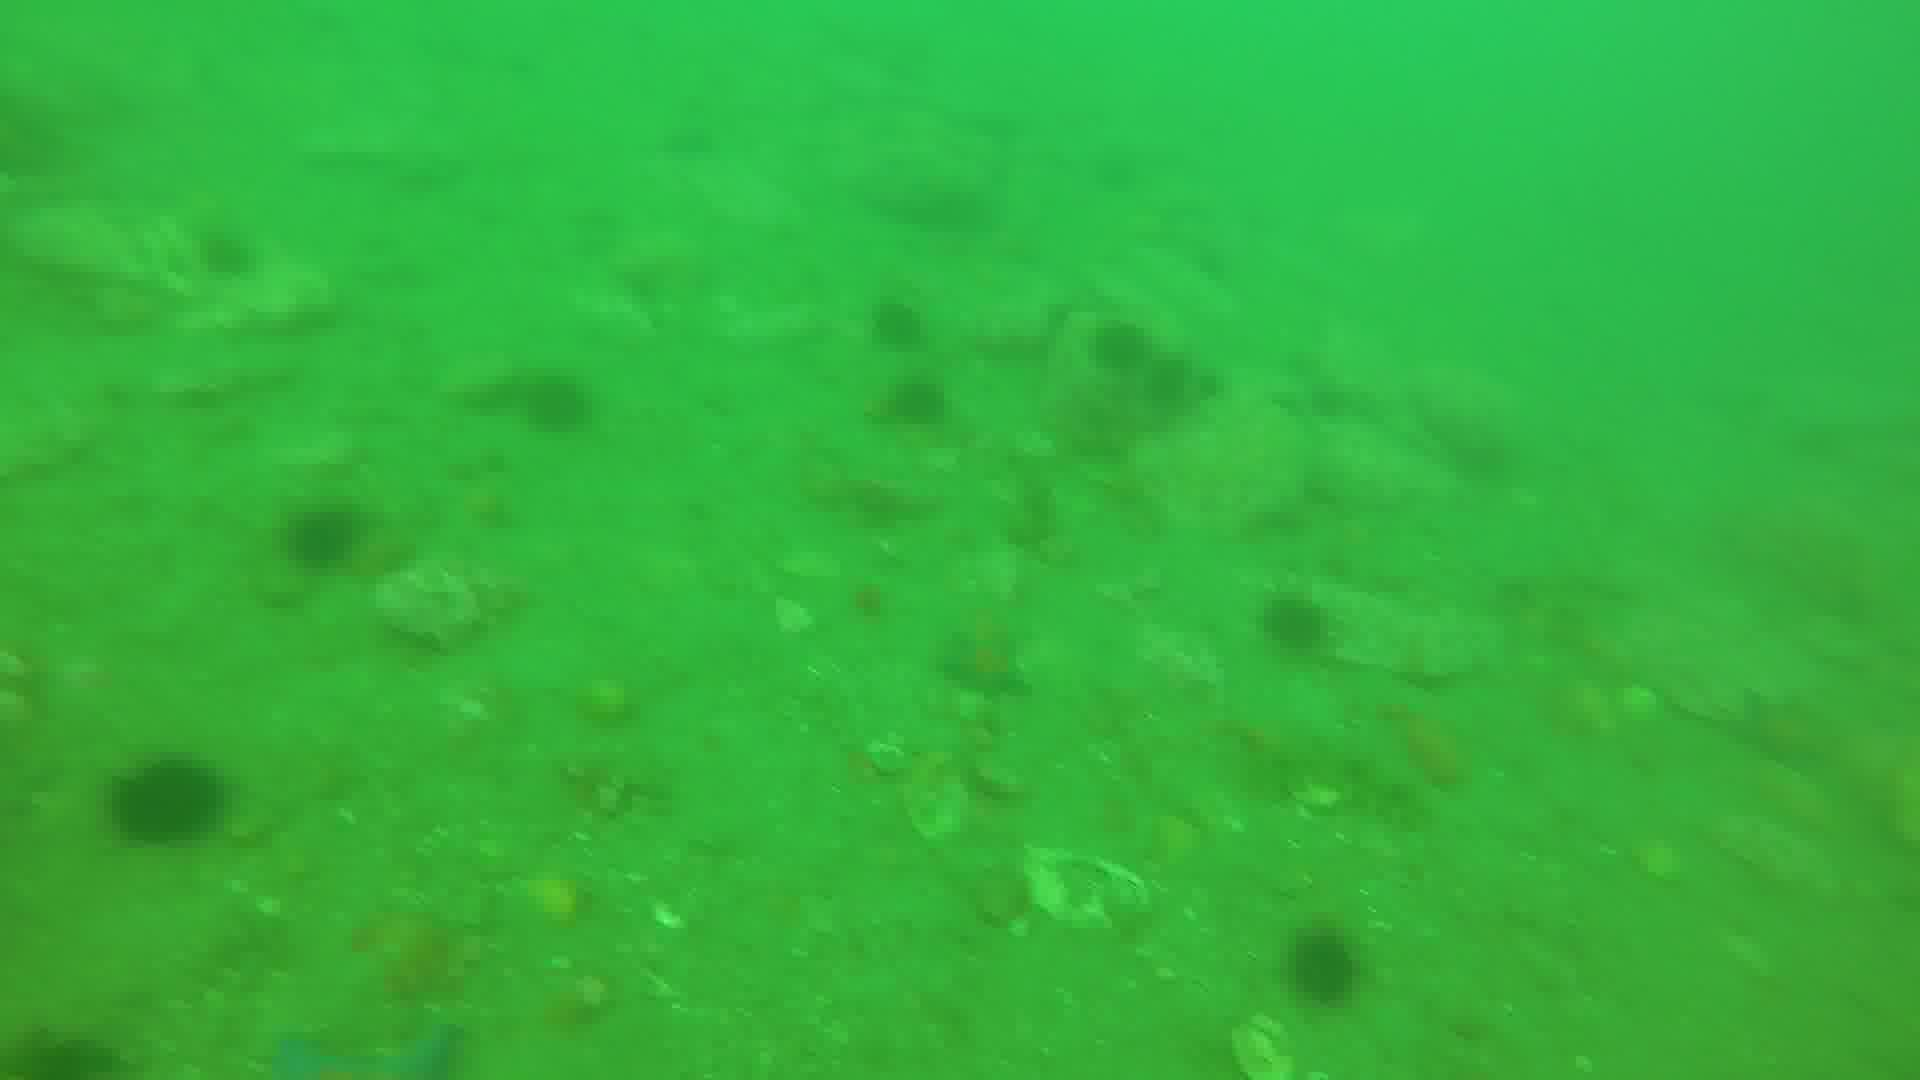echinus: (107, 752, 235, 837), (284, 493, 373, 574), (1, 1031, 148, 1080), (1302, 923, 1362, 1007), (529, 373, 597, 444), (866, 289, 931, 357), (1269, 589, 1327, 661), (895, 373, 957, 425), (1100, 324, 1153, 375)
starfish: (264, 1015, 464, 1080), (949, 617, 1034, 702)
